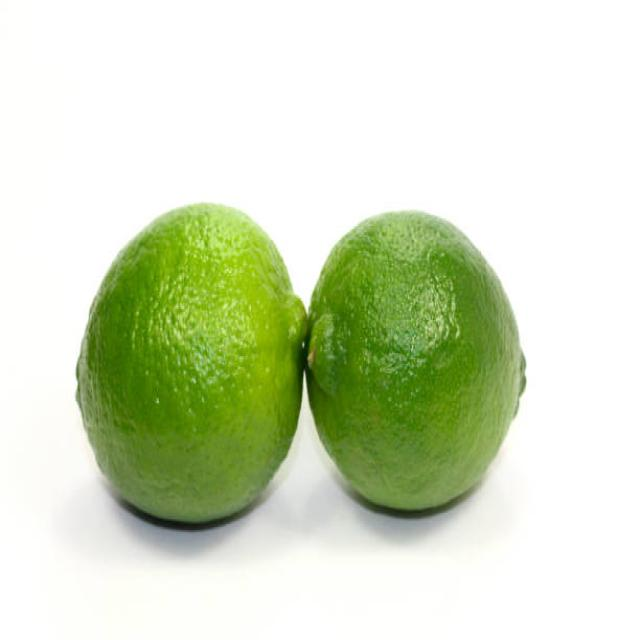Unripe: (72, 198, 310, 532), (303, 208, 526, 515)
